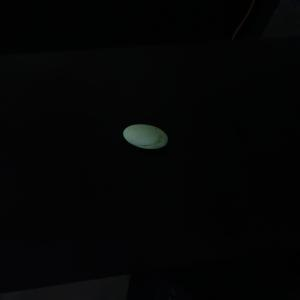Egg: (110, 117, 174, 154)
